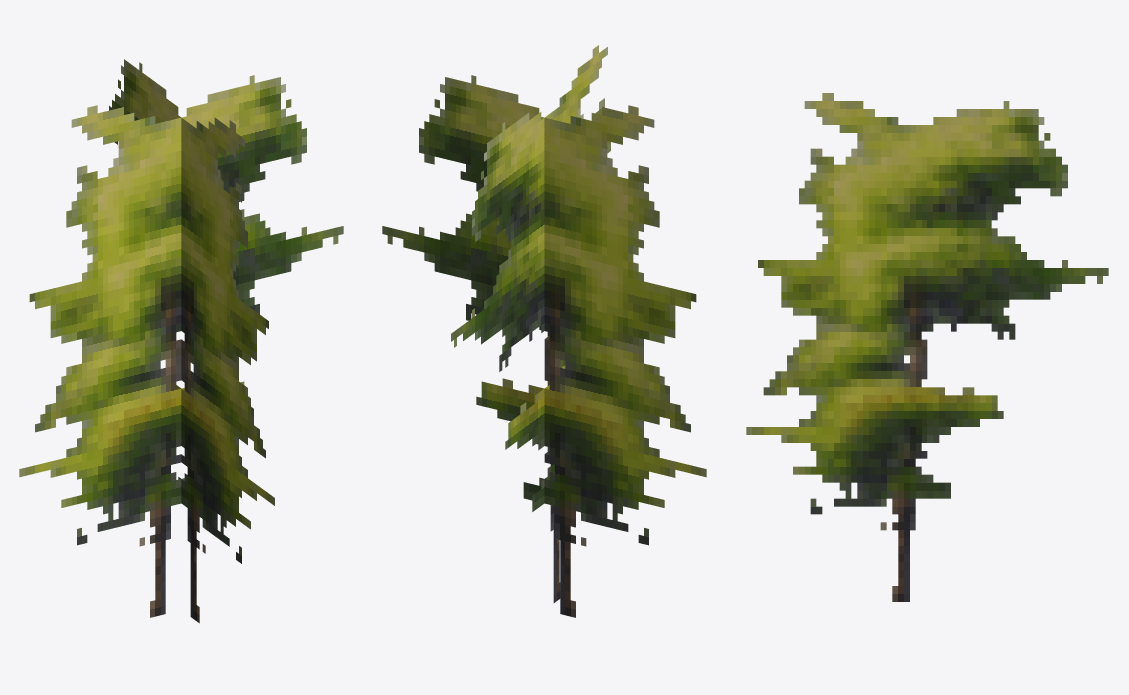
File: tree17.glb
The picture shows the model from 3 angles, left to right: view 1: azimuth 30°, elevation 25°; view 2: azimuth 150°, elevation 25°; view 3: azimuth 270°, elevation 25°; orthographic projection. The views are drawn at different scales.
Parts seen in each view (by area): view 1: rect_000; view 2: rect_000; view 3: rect_000.
Boxes of the visible parts, box(x1,y1,x2,y2) form: rect_000: box(19, 59, 343, 623); rect_000: box(382, 45, 706, 617); rect_000: box(746, 93, 1108, 601).
Bounding box in the file's own units: 9 × 13.5 × 9.
1 material, 1 textured.
